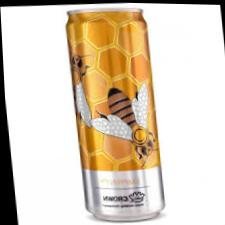metal: (64, 7, 164, 221)
